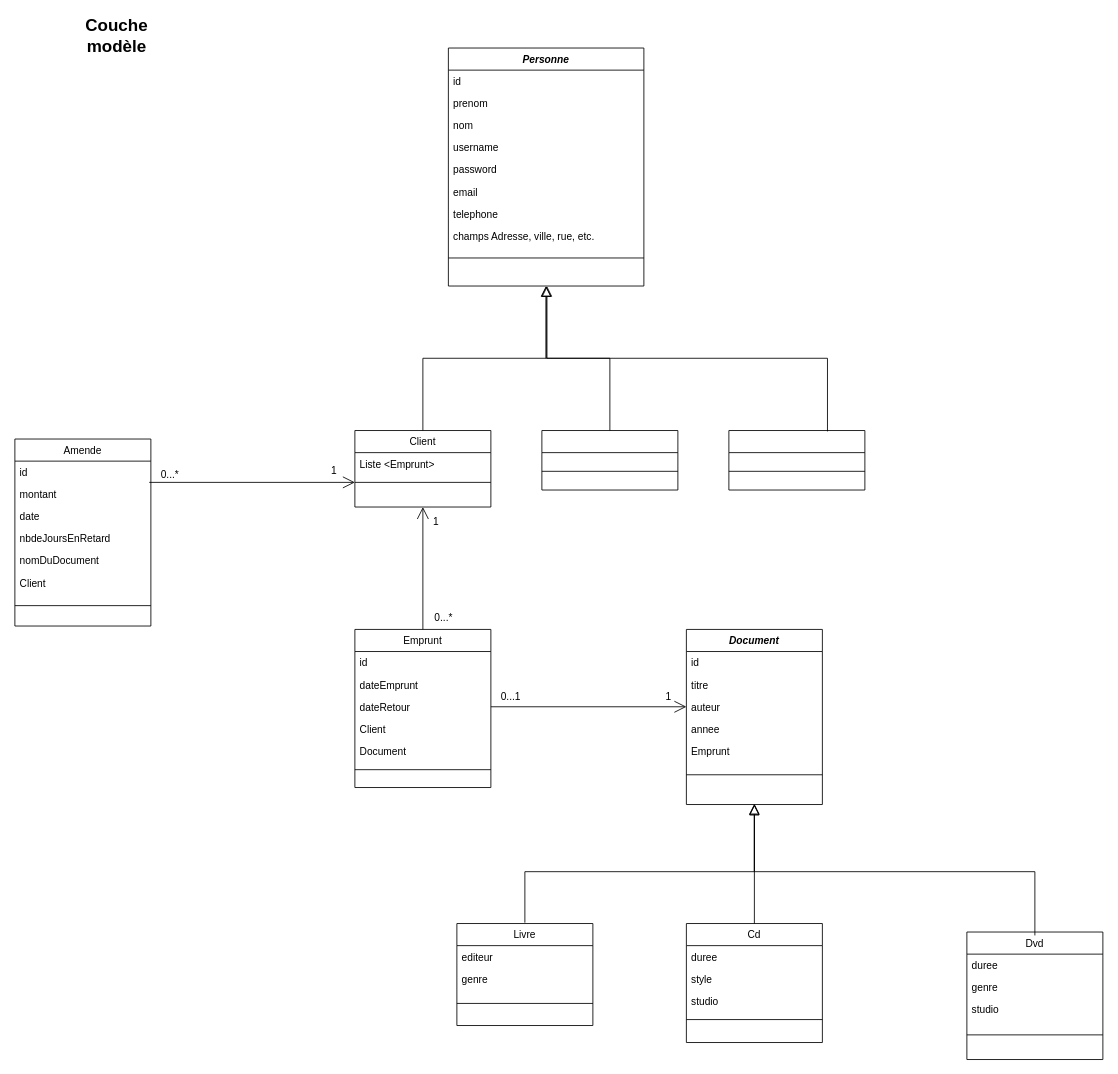
The diagram is 1118 pixels wide and 1074 high, and some of its shapes have lost their labels. Here are the shapes that lost their labels. From the top down, the centre of each, then its label:
the point at 609,460: Prepose
the point at 796,460: Admin
